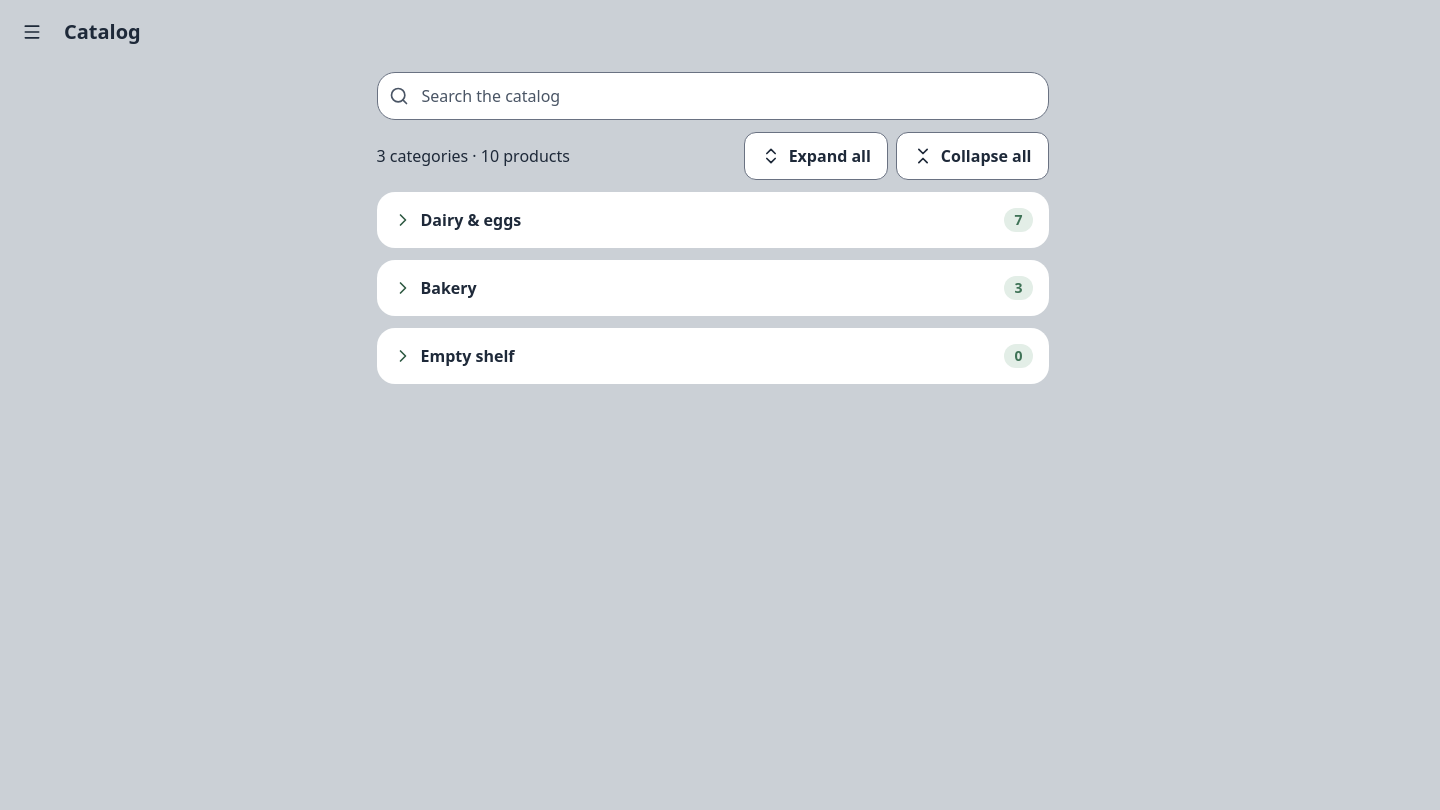
Test: CatalogPage › PRD-2.4: expands and collapses everything
Expected: the button "Dairy & eggs 7" is shown, [376,192,1048,248]
Click the button "Expand all" at [816, 156], box [744,132,888,180]
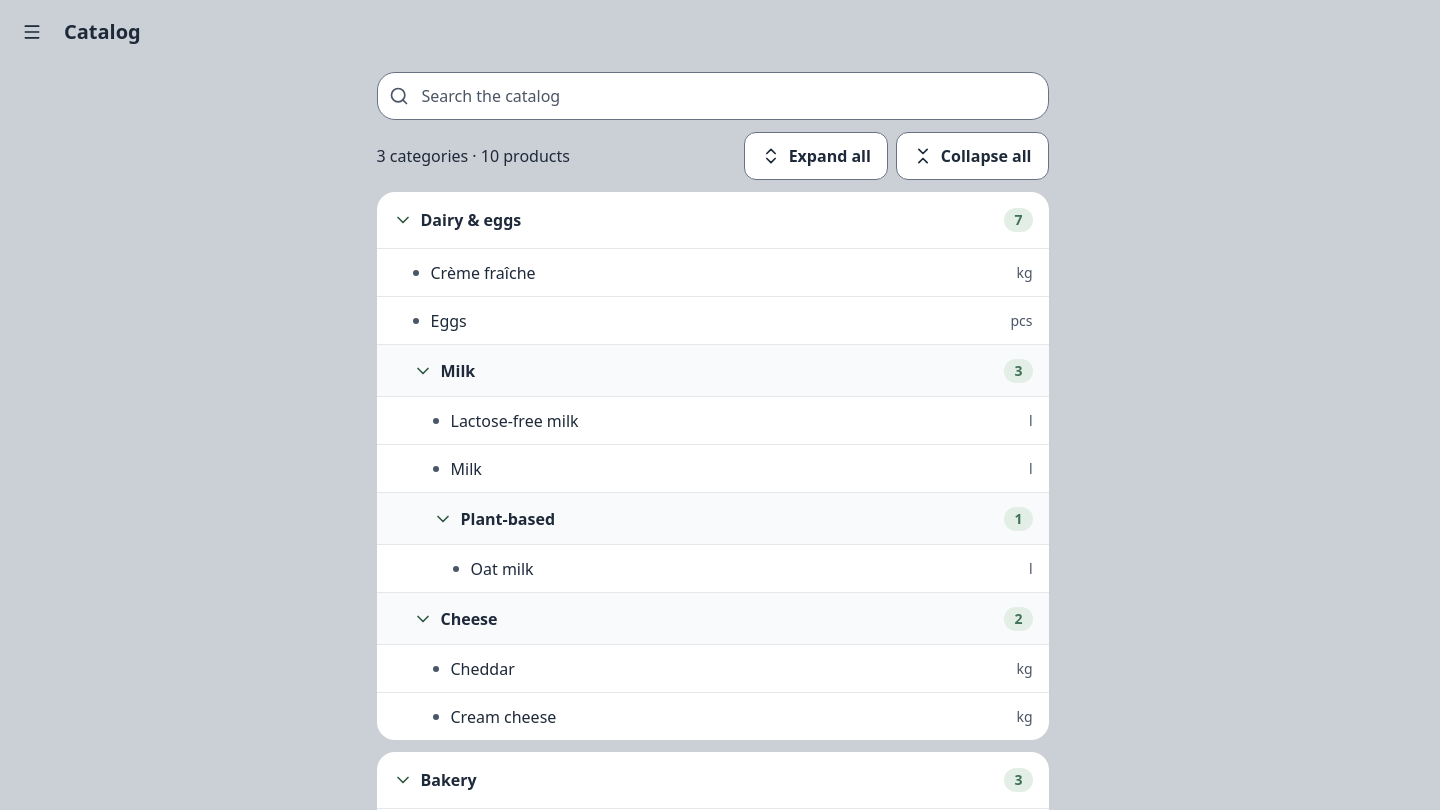
Now the text "Oat milk" is shown, box [470,558,534,580]
Click the button "Collapse all" at [972, 156], box [896,132,1048,180]
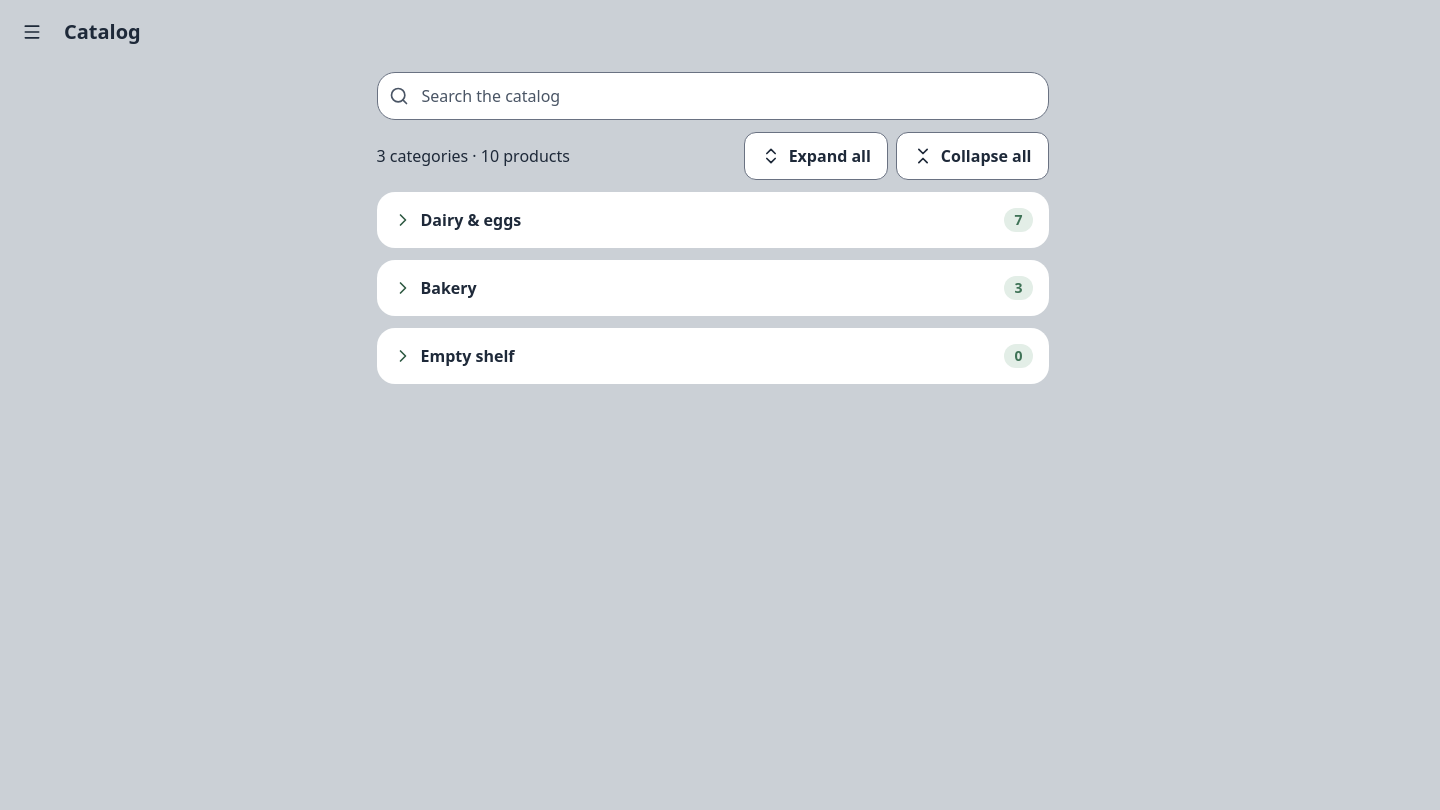
Now the text "Oat milk" is gone
